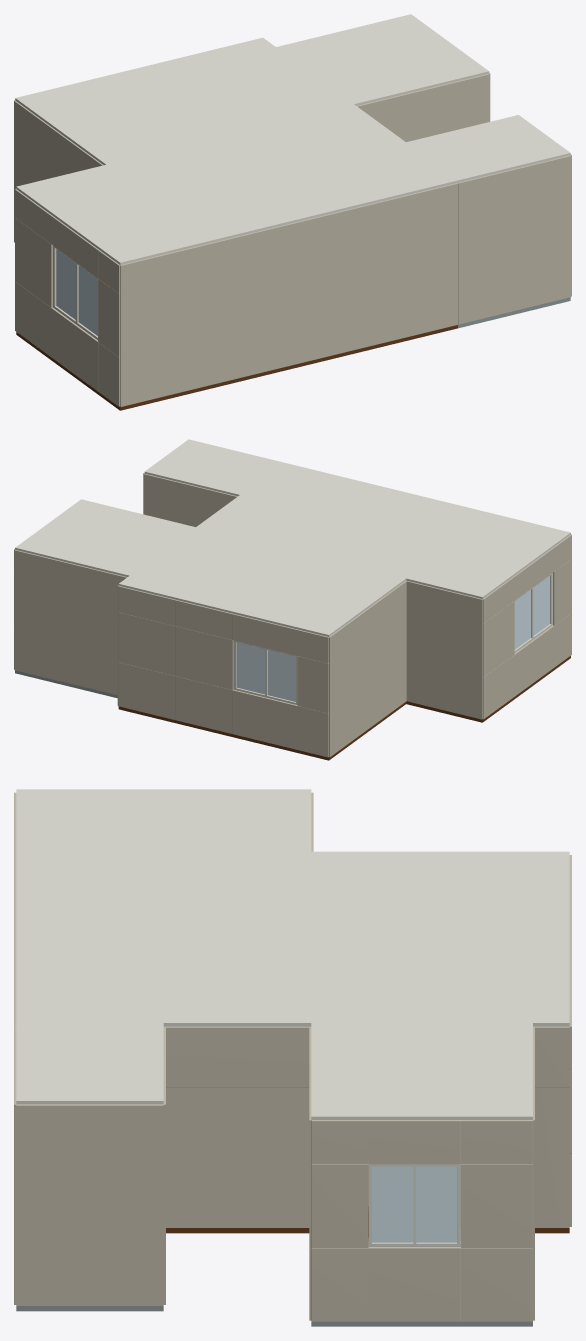
File: house.obj
3 views of the same model, one above another, from view 1: azimuth 30°, elevation 25°; view 2: azimuth 150°, elevation 25°; view 3: azimuth 270°, elevation 25° (orthographic). The views are drawn at different scales.
Visible parts, largest first — view 1: wall_living_room_018, ceiling_living_room, ceiling_bedroom, wall_bathroom_020, ceiling_corridor, ceiling_kitchen, wall_corridor_019, ceiling_bathroom, wall_kitchen_023, wall_bedroom_024, wall_living_room_006, wall_living_room_003 (+8 smaller); view 2: ceiling_living_room, wall_kitchen_058, ceiling_bedroom, ceiling_corridor, wall_bedroom_024, wall_living_room_021, ceiling_kitchen, ceiling_bathroom, wall_bathroom_060, wall_bedroom_028, wall_bedroom_031, wall_corridor_034 (+20 smaller); view 3: ceiling_living_room, ceiling_bedroom, wall_bathroom_059, ceiling_corridor, ceiling_kitchen, wall_corridor_041, ceiling_bathroom, wall_corridor_042, wall_kitchen_053, window_kitchen_008_glazing, wall_kitchen_056, wall_kitchen_055 (+13 smaller).
Boxes of the visible parts, x1,y1,x2,y2 form: wall_living_room_018: (120, 199, 391, 406); ceiling_living_room: (16, 120, 390, 264); ceiling_bedroom: (15, 54, 285, 164); wall_bathroom_020: (458, 155, 571, 324); ceiling_corridor: (196, 37, 457, 198); ceiling_kitchen: (276, 14, 489, 105); wall_corridor_019: (390, 183, 458, 340); ceiling_bathroom: (406, 115, 570, 182); wall_kitchen_023: (357, 73, 489, 142); wall_bedroom_024: (14, 100, 103, 242); wall_living_room_006: (15, 218, 52, 307); wall_living_room_003: (51, 307, 97, 391); ceiling_living_room: (253, 476, 570, 598); wall_kitchen_058: (14, 549, 127, 695); ceiling_bedroom: (176, 541, 406, 636); ceiling_corridor: (118, 462, 340, 599); wall_bedroom_024: (329, 581, 406, 756); wall_living_room_021: (406, 580, 482, 719); ceiling_kitchen: (15, 499, 195, 576); ceiling_bathroom: (144, 439, 283, 496); wall_bathroom_060: (144, 473, 237, 526); wall_bedroom_028: (232, 689, 297, 749); wall_bedroom_031: (175, 626, 233, 689); wall_corridor_034: (118, 612, 175, 675); ceiling_living_room: (16, 789, 311, 976); ceiling_bedroom: (311, 851, 569, 976); wall_bathroom_059: (16, 1104, 163, 1305); ceiling_corridor: (16, 976, 569, 1026); ceiling_kitchen: (311, 1023, 532, 1119); wall_corridor_041: (166, 1087, 309, 1227); ceiling_bathroom: (16, 1023, 163, 1104); wall_corridor_042: (164, 1026, 309, 1087); wall_kitchen_053: (368, 1247, 460, 1321); window_kitchen_008_glazing: (372, 1166, 457, 1242); wall_kitchen_056: (461, 1164, 532, 1247); wall_kitchen_055: (461, 1248, 532, 1321).
Bounding box in the file's own units: 10.56 × 3.14 × 7.56.
